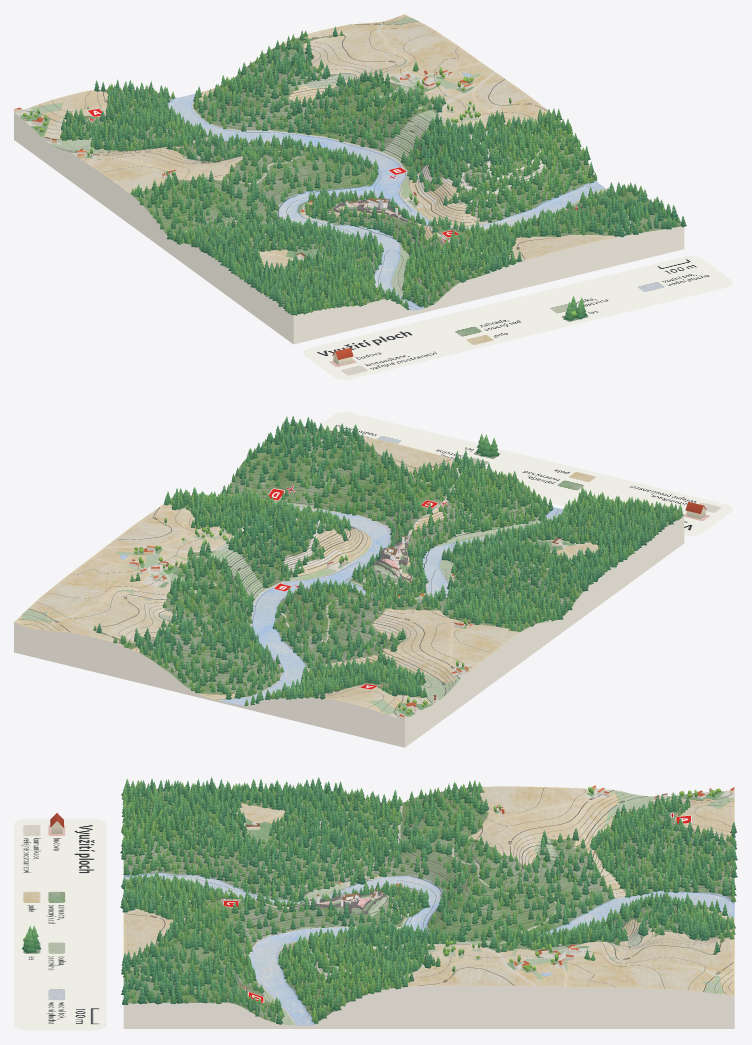
Rendered from Zvikov_sada2_otazka2.glb.
The picture shows the model from 3 angles, top to bottom: view 1: azimuth 30°, elevation 25°; view 2: azimuth 150°, elevation 25°; view 3: azimuth 270°, elevation 25°; orthographic projection. The views are drawn at different scales.
Visible parts, largest first — view 1: DMR_1953, Zvikov_stromy_body_SMO5, legenda_panel, vrstevnice, Zvikov_SMO5_budovy, Node0, legenda_objekty; view 2: DMR_1953, Zvikov_stromy_body_SMO5, legenda_panel, vrstevnice, Zvikov_SMO5_budovy, Node0, legenda_objekty; view 3: Zvikov_stromy_body_SMO5, DMR_1953, legenda_panel, vrstevnice, Zvikov_SMO5_budovy, Node0, legenda_objekty.
Boxes of the visible parts, x1=… form: DMR_1953: x1=14, y1=14, x2=684, y2=344; Zvikov_stromy_body_SMO5: x1=23, y1=26, x2=686, y2=315; legenda_panel: x1=303, y1=256, x2=732, y2=379; vrstevnice: x1=22, y1=16, x2=678, y2=309; Zvikov_SMO5_budovy: x1=14, y1=70, x2=471, y2=258; Node0: x1=328, y1=197, x2=411, y2=222; legenda_objekty: x1=332, y1=295, x2=587, y2=365; DMR_1953: x1=14, y1=425, x2=684, y2=747; Zvikov_stromy_body_SMO5: x1=93, y1=415, x2=683, y2=714; legenda_panel: x1=316, y1=412, x2=732, y2=535; vrstevnice: x1=19, y1=430, x2=624, y2=716; Zvikov_SMO5_budovy: x1=129, y1=538, x2=561, y2=719; Node0: x1=373, y1=535, x2=411, y2=583; legenda_objekty: x1=476, y1=433, x2=706, y2=519; Zvikov_stromy_body_SMO5: x1=120, y1=777, x2=737, y2=1024; DMR_1953: x1=123, y1=786, x2=734, y2=1028; legenda_panel: x1=14, y1=818, x2=106, y2=1030; vrstevnice: x1=124, y1=787, x2=733, y2=1023; Zvikov_SMO5_budovy: x1=246, y1=785, x2=734, y2=968; Node0: x1=295, y1=889, x2=386, y2=914; legenda_objekty: x1=22, y1=813, x2=63, y2=953.
Bounding box in the file's own units: 1491 × 188 × 2151.
Materials: 11 (7 with a texture image).
